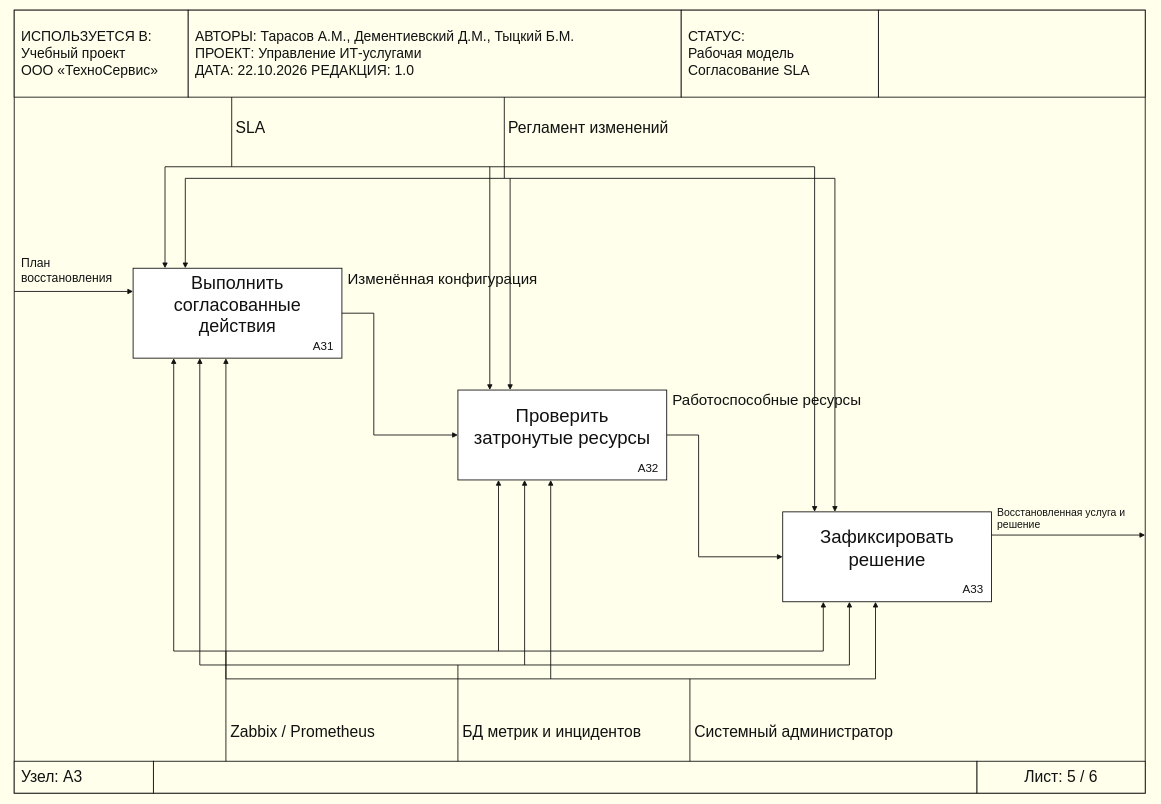
Some shapes in this 1161 by 804 pixel diagram are drawn without their labels. Each missing label, with the centre of its shape:
"Восстановить работу услуги" belongs at (565,777).
"КОНТЕКСТ: A0 УЗЕЛ: A3 ГРУППА: ИКБО-74-23" belongs at (1011,53).
